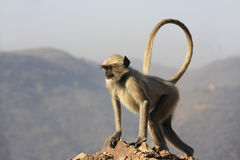monkey: (98, 20, 205, 156)
